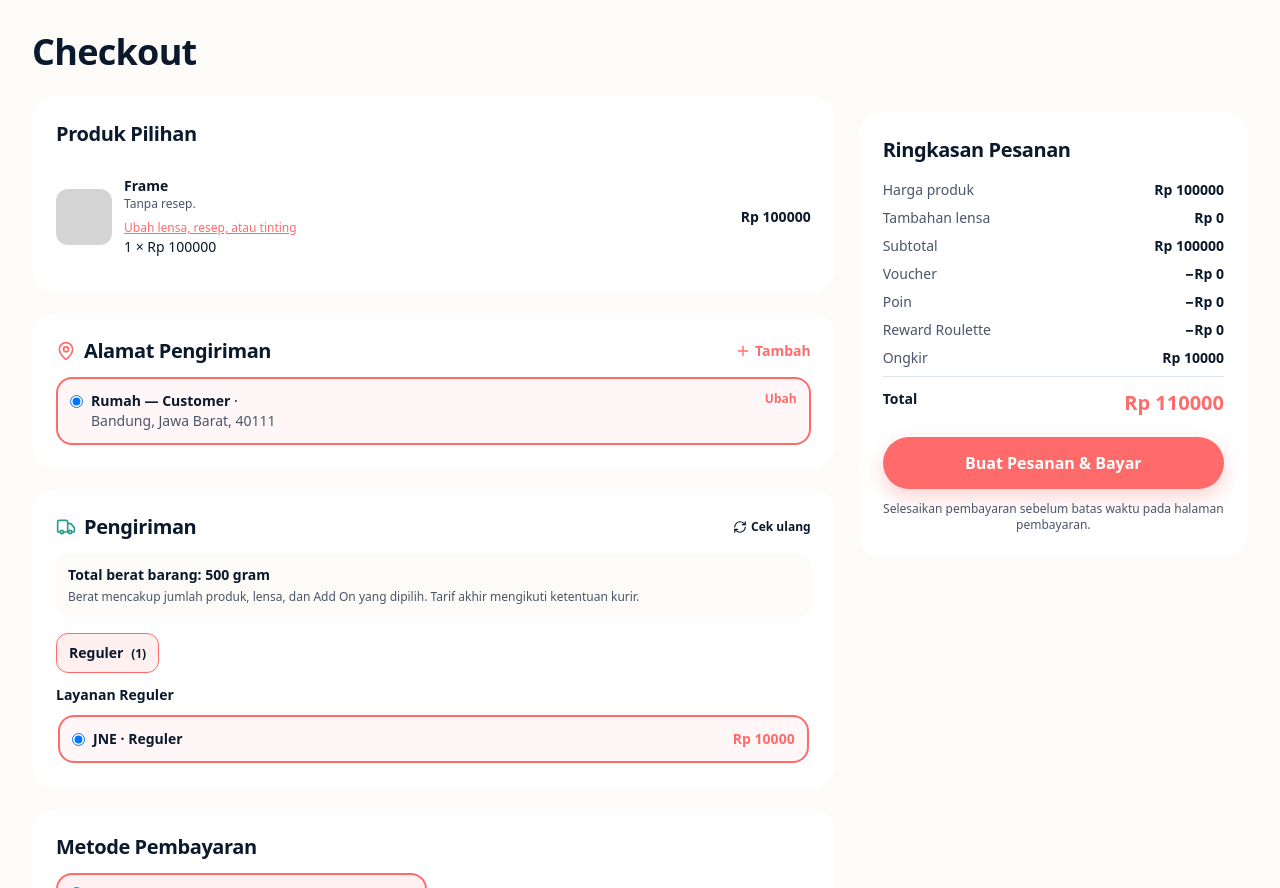
Test: reloading shipping clears the previous weight until the new quote arrives
Check: the text with test id "shipping-items-weight" reads "500 gram", box 205,565 -> 270,584
Click the button "Cek ulang".
click(772, 527)  # box 733,519 -> 811,535
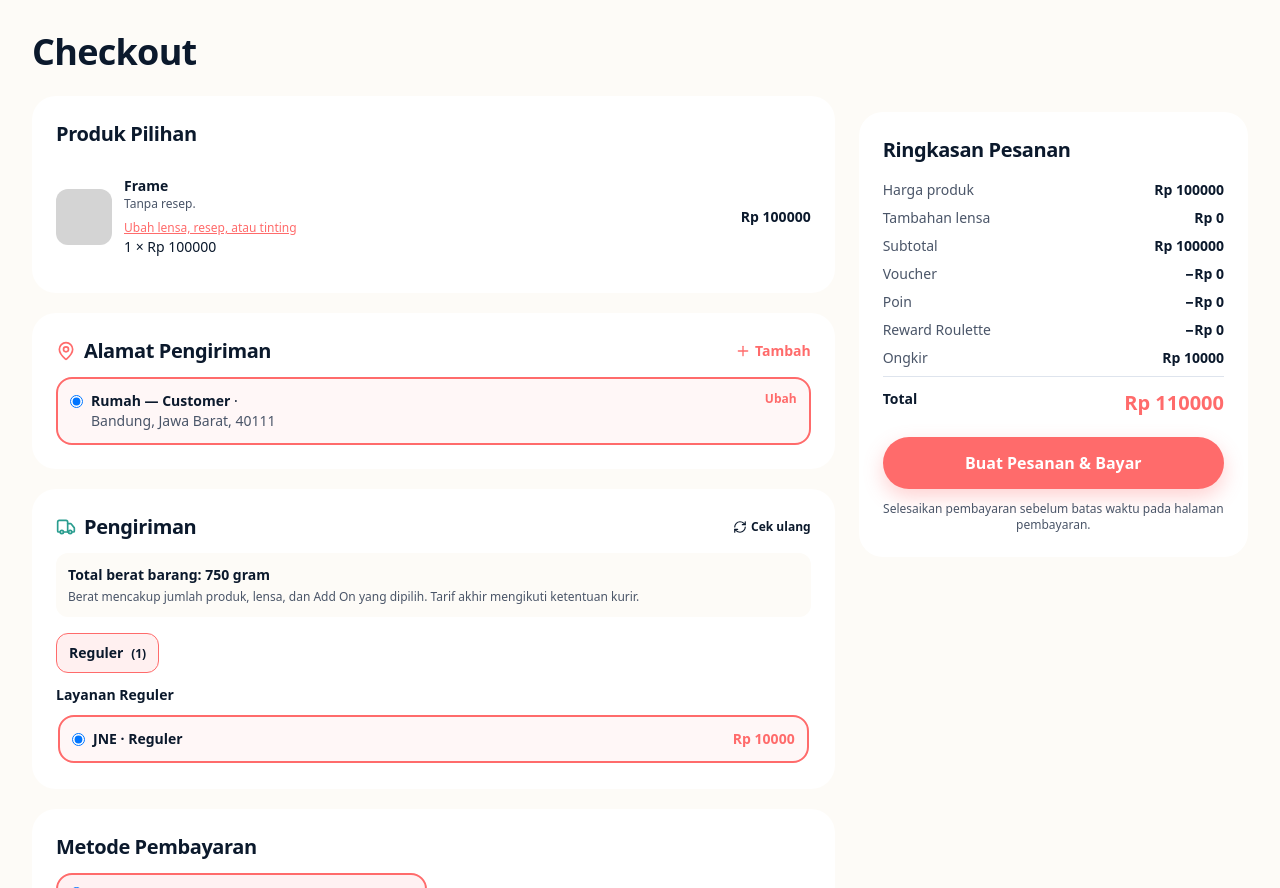
Check: the text with test id "shipping-items-weight" reads "750 gram", box 205,565 -> 270,584
